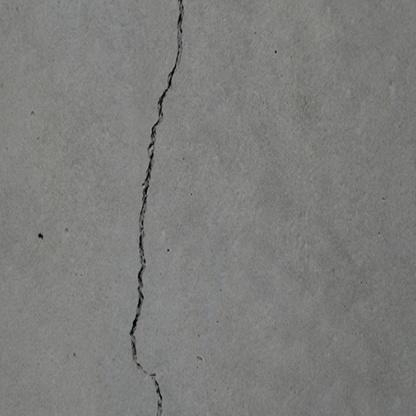Cracks: (127, 0, 190, 416)
